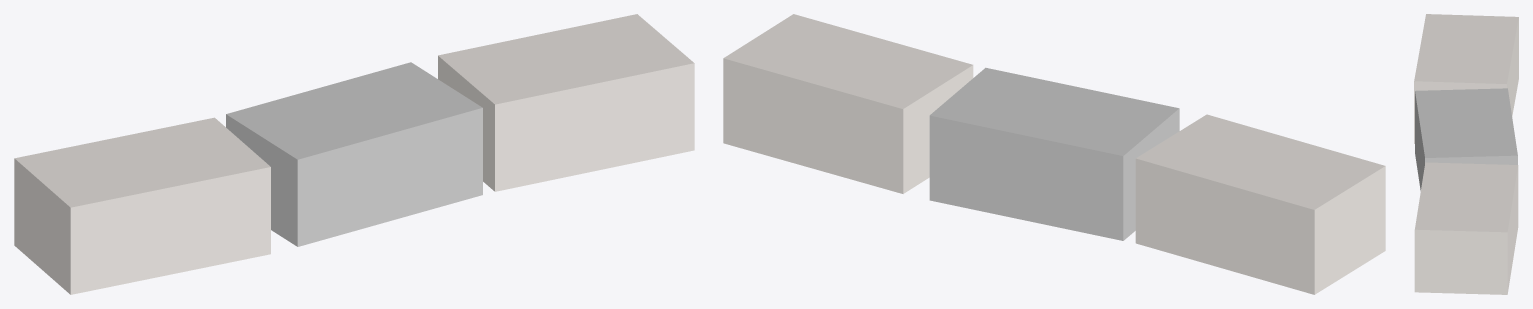
File: SM_Sacos_v1_Hilera3_LOD1.fbx
3 views of the same model, side by side, from view 1: azimuth 30°, elevation 25°; view 2: azimuth 150°, elevation 25°; view 3: azimuth 270°, elevation 25° (orthographic). The views are drawn at different scales.
Visible parts, largest first — view 1: SM_farp_betera_v16_LOD1; view 2: SM_farp_betera_v16_LOD1; view 3: SM_farp_betera_v16_LOD1.
Part boxes in pixels (box(x1,y1,x2,y2)): SM_farp_betera_v16_LOD1: box(14, 14, 694, 294); SM_farp_betera_v16_LOD1: box(723, 14, 1385, 294); SM_farp_betera_v16_LOD1: box(1414, 14, 1518, 294).
Bounding box in the file's own units: 1.94 × 0.26 × 0.394.
